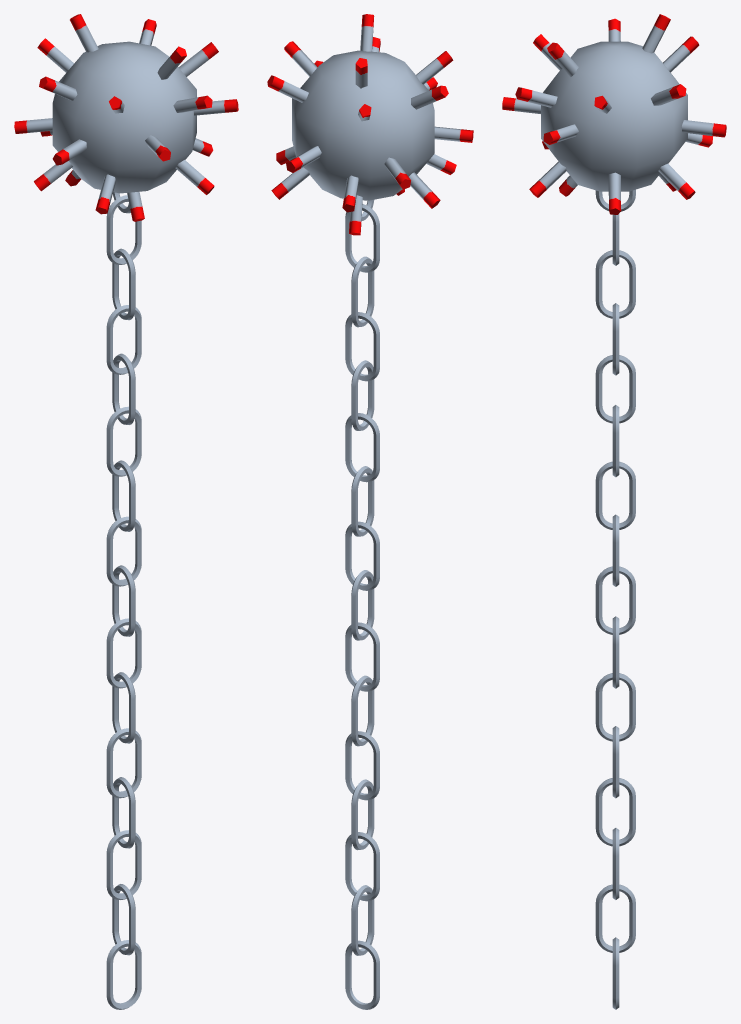
The model's file is NavalMineB.FBX.
3 views of the same model, side by side, from view 1: azimuth 30°, elevation 25°; view 2: azimuth 150°, elevation 25°; view 3: azimuth 270°, elevation 25° (orthographic).
Visible parts, largest first — view 1: Mine2, Chain001; view 2: Mine2, Chain001; view 3: Mine2, Chain001.
Boxes of the visible parts, x1=… form: Mine2: x1=14, y1=14, x2=238, y2=221; Chain001: x1=106, y1=192, x2=141, y2=1009; Mine2: x1=267, y1=14, x2=473, y2=235; Chain001: x1=345, y1=199, x2=379, y2=1009; Mine2: x1=502, y1=14, x2=726, y2=214; Chain001: x1=595, y1=189, x2=635, y2=1009.
Size of the model in its own units: 371 by 1957 by 405.
Materials: 1 (1 with a texture image).
